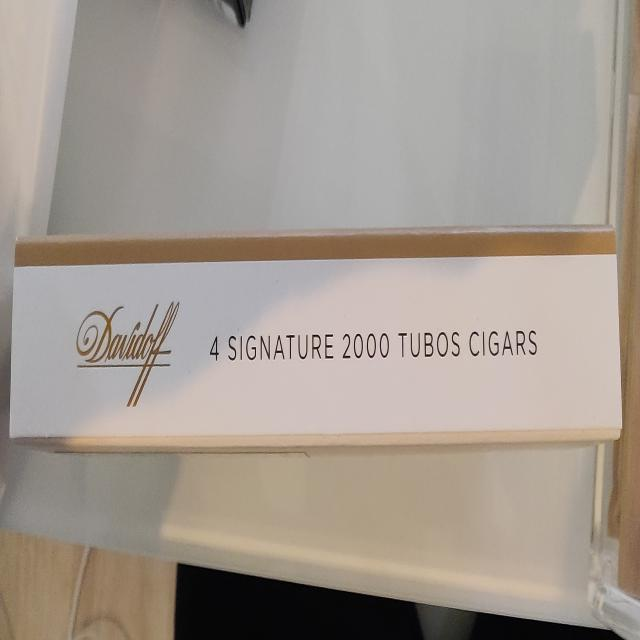Davidoff: (76, 301, 180, 408)
